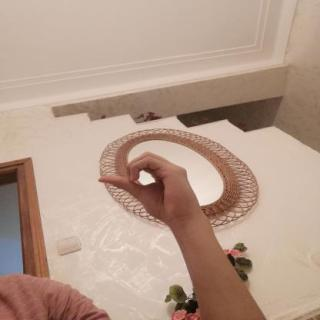WAW: (90, 146, 205, 228)
